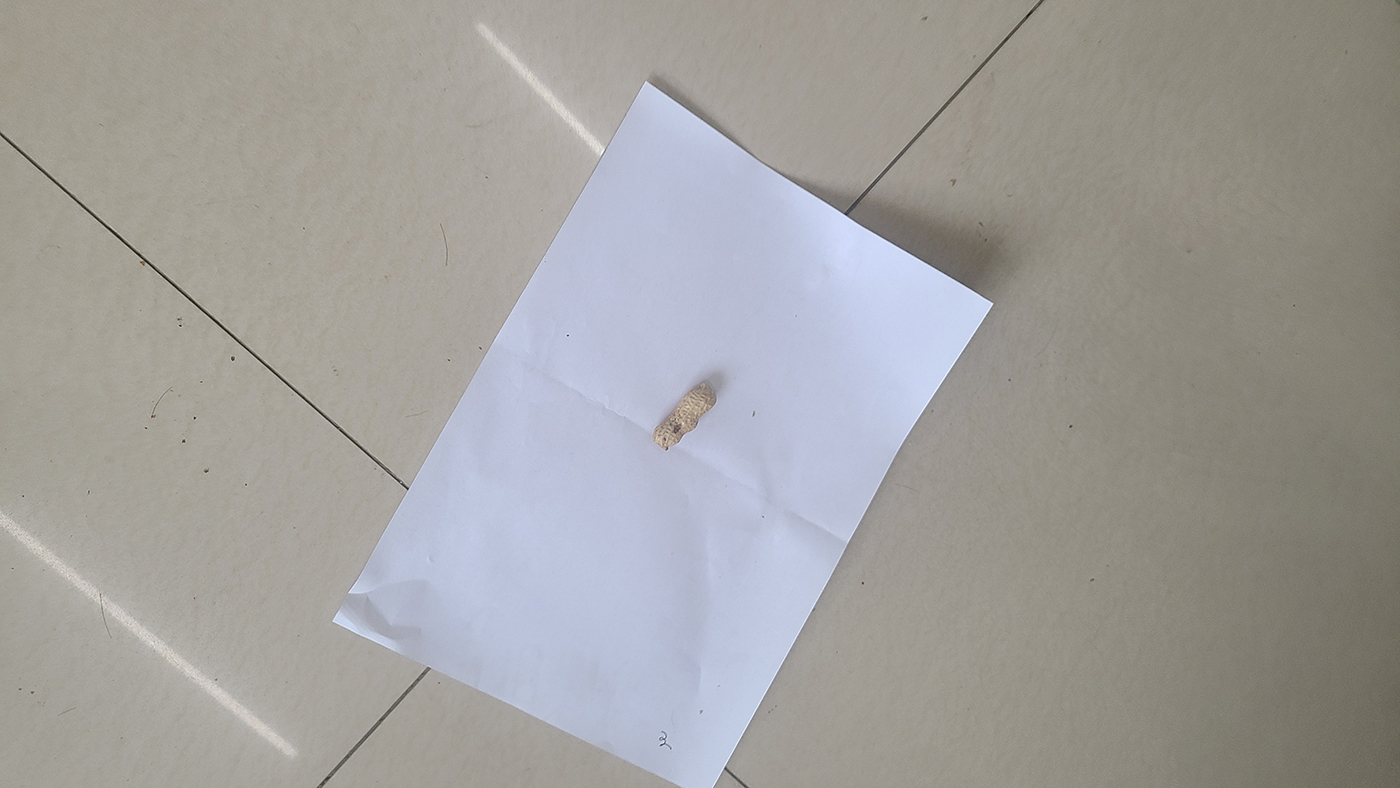h: (652, 381, 718, 451)
